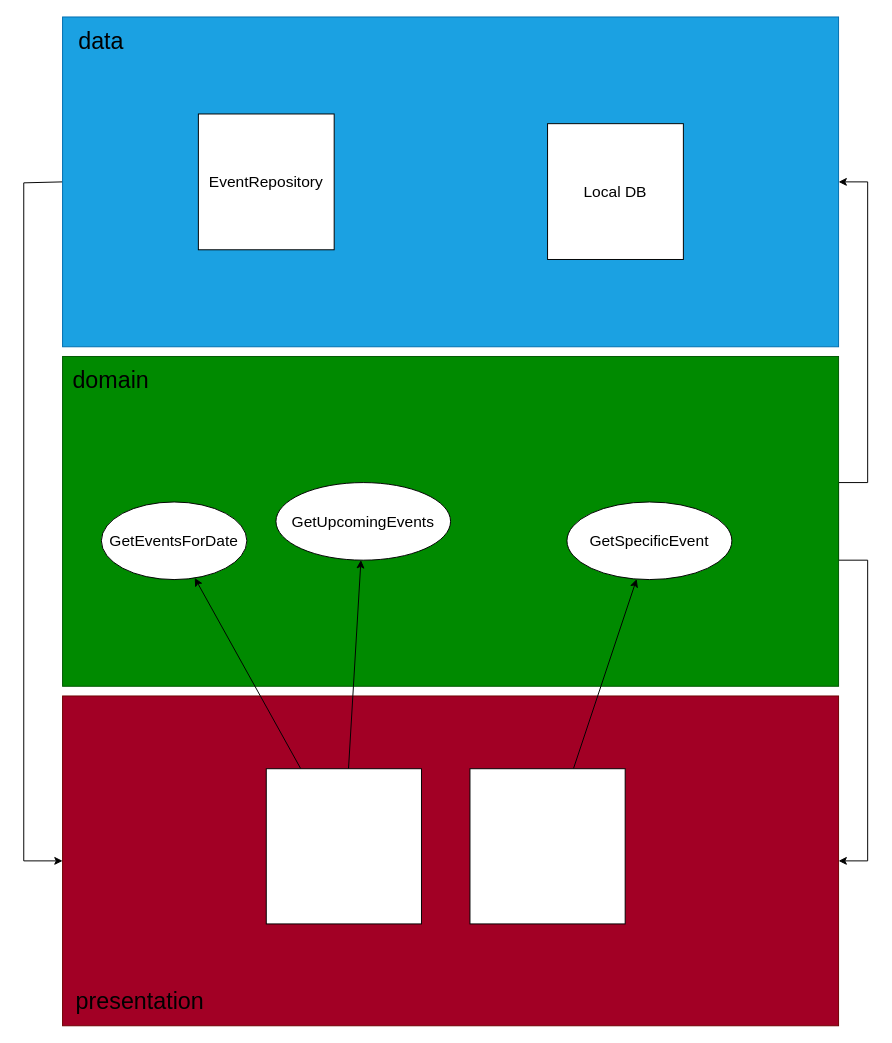
Image size: 892x1043. Some labels were removed from this diagram. The centre of each missing label's shape, as x and y in pixels:
Навигация к детальному событию или созданию нового: the point at 547,846
Отображение календаря с событиями: the point at 343,846
